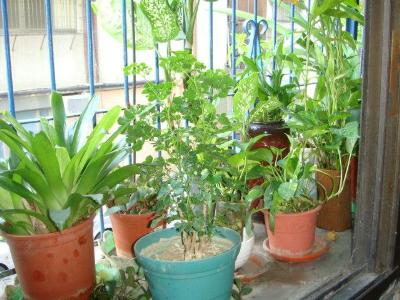plate: (262, 233, 329, 261)
